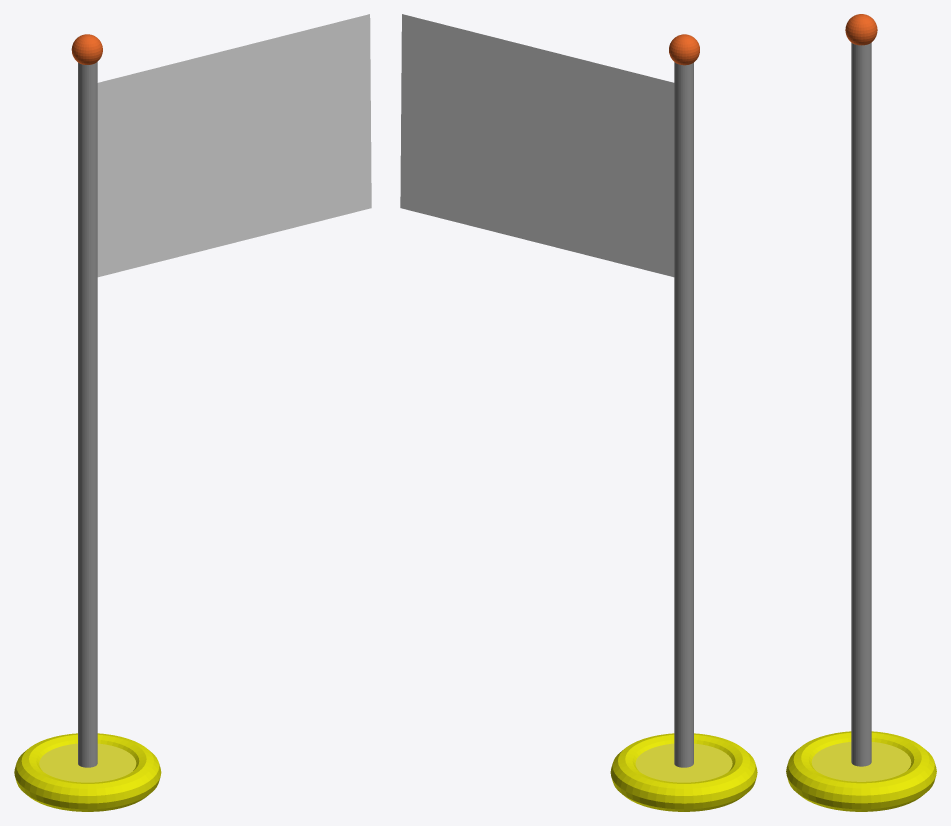
File: Stage2Flag.fbx
The picture shows the model from 3 angles, left to right: view 1: azimuth 30°, elevation 25°; view 2: azimuth 150°, elevation 25°; view 3: azimuth 270°, elevation 25°; orthographic projection. The views are drawn at different scales.
Parts seen in each view (by area): view 1: 平面, Cylinder, Torus, Cylinder.001, Sphere; view 2: 平面, Cylinder, Torus, Cylinder.001, Sphere; view 3: Cylinder, Torus, Cylinder.001, Sphere.
Boxes of the visible parts, x1,y1,x2,y2 form: 平面: (97, 14, 371, 277); Cylinder: (78, 62, 97, 767); Torus: (14, 733, 161, 811); Cylinder.001: (39, 743, 136, 782); Sphere: (71, 34, 102, 64); 平面: (400, 14, 674, 277); Cylinder: (674, 62, 693, 767); Torus: (610, 733, 757, 811); Cylinder.001: (635, 743, 732, 782); Sphere: (669, 34, 699, 65); Cylinder: (851, 43, 871, 766); Torus: (786, 731, 936, 811); Cylinder.001: (811, 742, 911, 781); Sphere: (845, 14, 877, 45).
Bounding box in the file's own units: 205 × 422 × 75.
